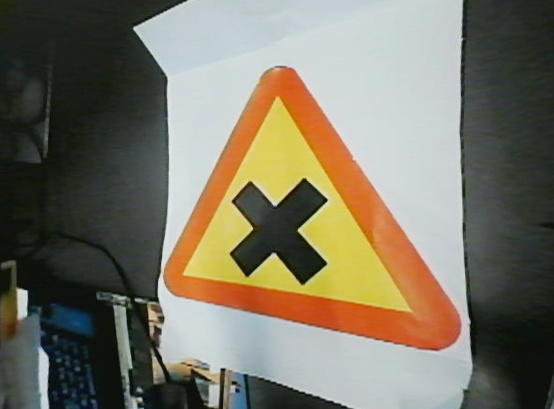junction: (152, 65, 463, 354)
